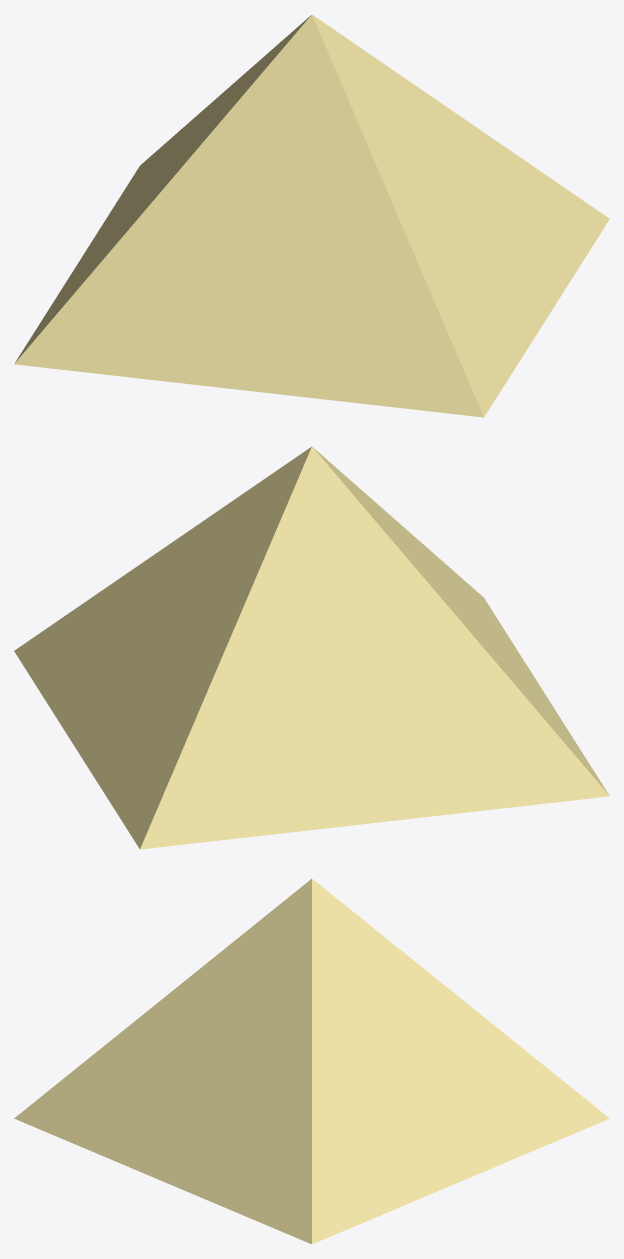
The model's file is food.gltf.
3 renders of one model, top to bottom at view 1: azimuth 30°, elevation 25°; view 2: azimuth 150°, elevation 25°; view 3: azimuth 270°, elevation 25°, orthographic. The views are drawn at different scales.
Visible parts, largest first — view 1: food; view 2: food; view 3: food.
Part boxes in pixels (x1,y1,x2,y2): food: (14, 14, 609, 417); food: (14, 446, 609, 849); food: (14, 879, 609, 1244).
Size of the model in its own units: 0.36 by 0.216 by 0.36.
